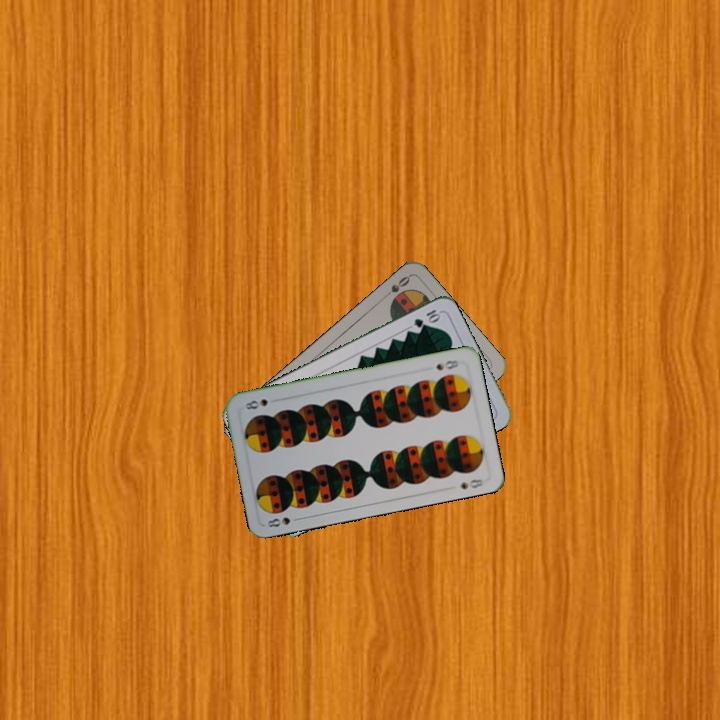G10: (410, 305, 443, 330)
S8: (263, 513, 303, 530), (431, 356, 462, 373)
SO: (378, 272, 413, 302)
